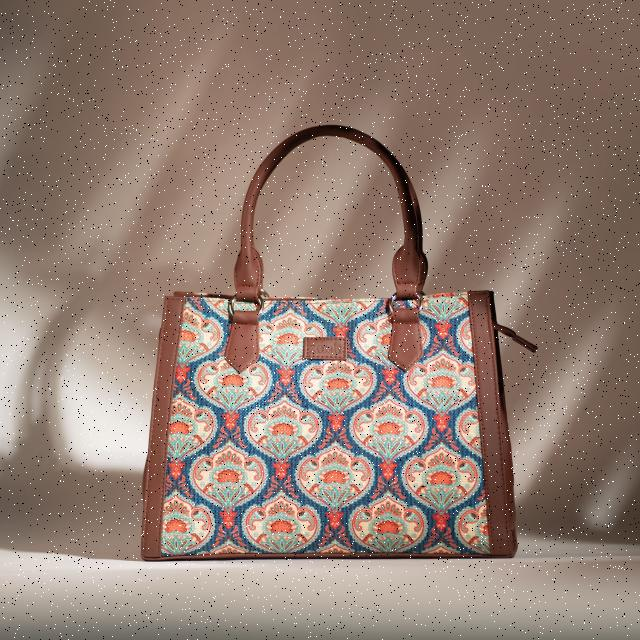handbag: (140, 124, 537, 560)
